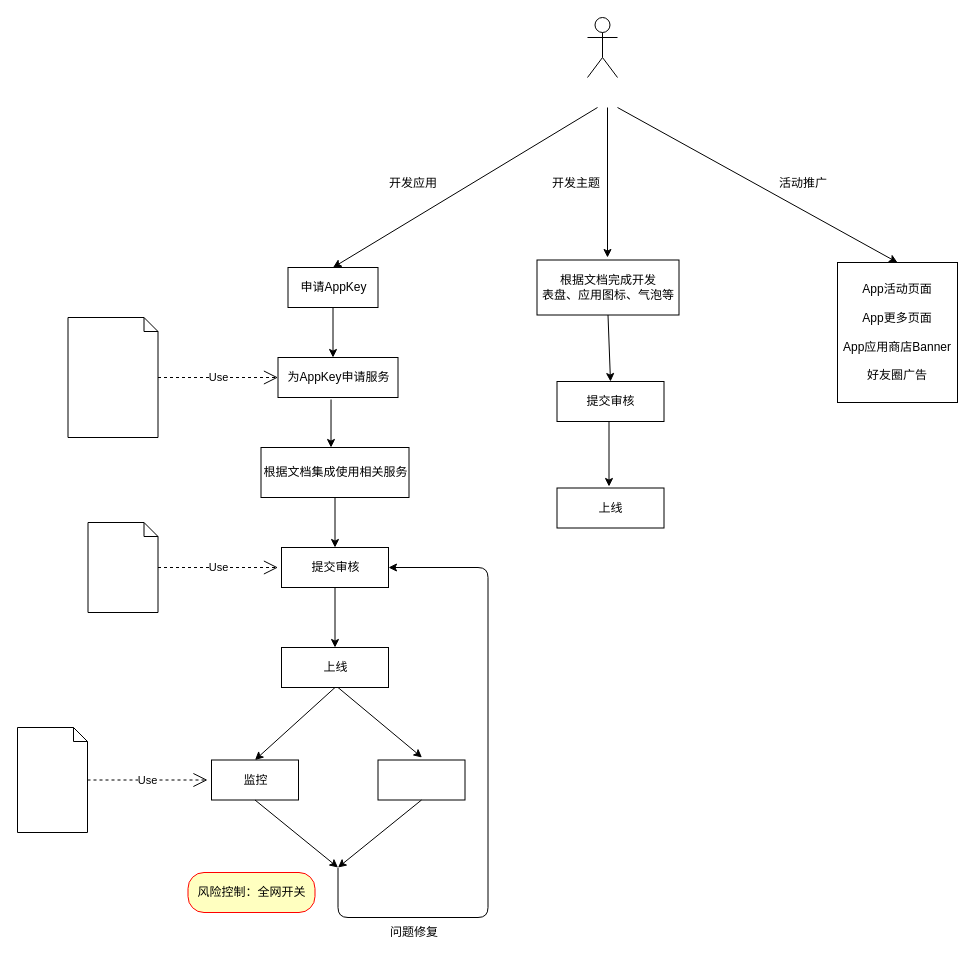
Some shapes in this 975 by 960 pixel diagram are drawn without their labels. The box of each missing label's shape, as (x1, y1, x2, y2) in pixels:
反馈: (377, 759, 465, 800)
审核项： 产品 交互 视觉 软件: (87, 522, 158, 612)
服务项： 基础服务 账号服务 推送服务 数据埋点服务 线上监控服务 日志管理服务: (67, 316, 158, 438)
监控项： 稳定性 内存 流量 电量 磁盘: (16, 726, 88, 832)
第三方: (586, 16, 618, 78)
